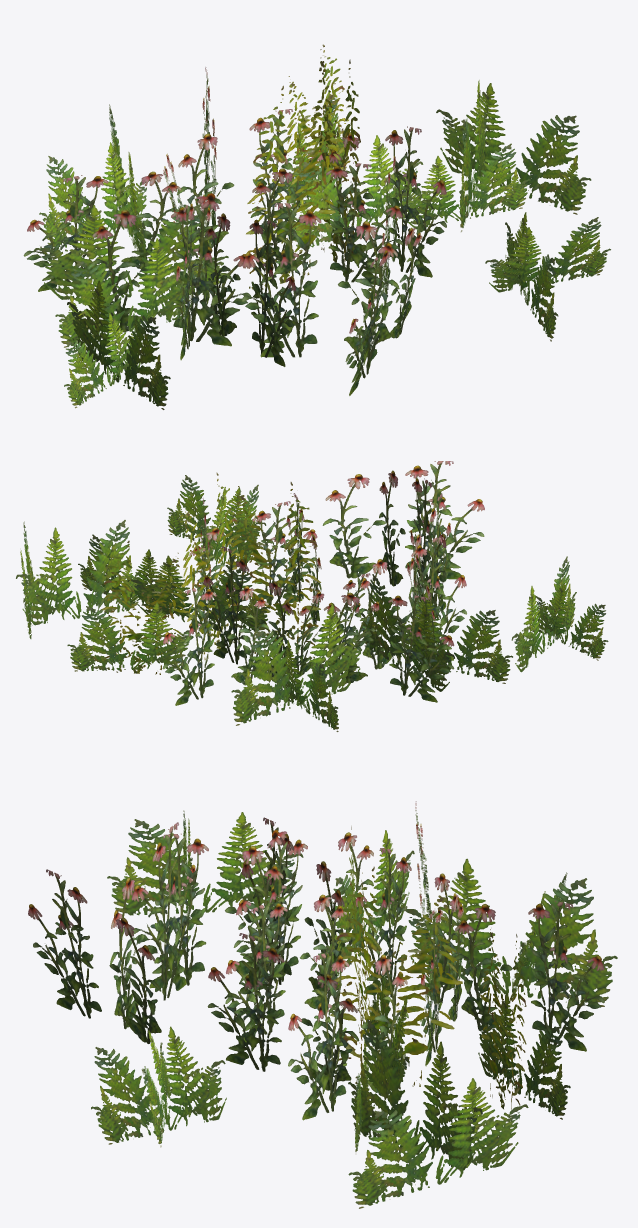
Rendered from DN_grass02b.FBX.
3 renders of one model, top to bottom at view 1: azimuth 30°, elevation 25°; view 2: azimuth 150°, elevation 25°; view 3: azimuth 270°, elevation 25°, orthographic. The views are drawn at different scales.
Visible parts, largest first — view 1: DN_grass02b; view 2: DN_grass02b; view 3: DN_grass02b.
Boxes of the visible parts, x1,y1,x2,y2 form: DN_grass02b: (23, 44, 610, 409); DN_grass02b: (16, 461, 608, 731); DN_grass02b: (28, 801, 617, 1208).
Size of the model in its own units: 25.74 by 8.46 by 19.49.
3 materials, 3 textured.
